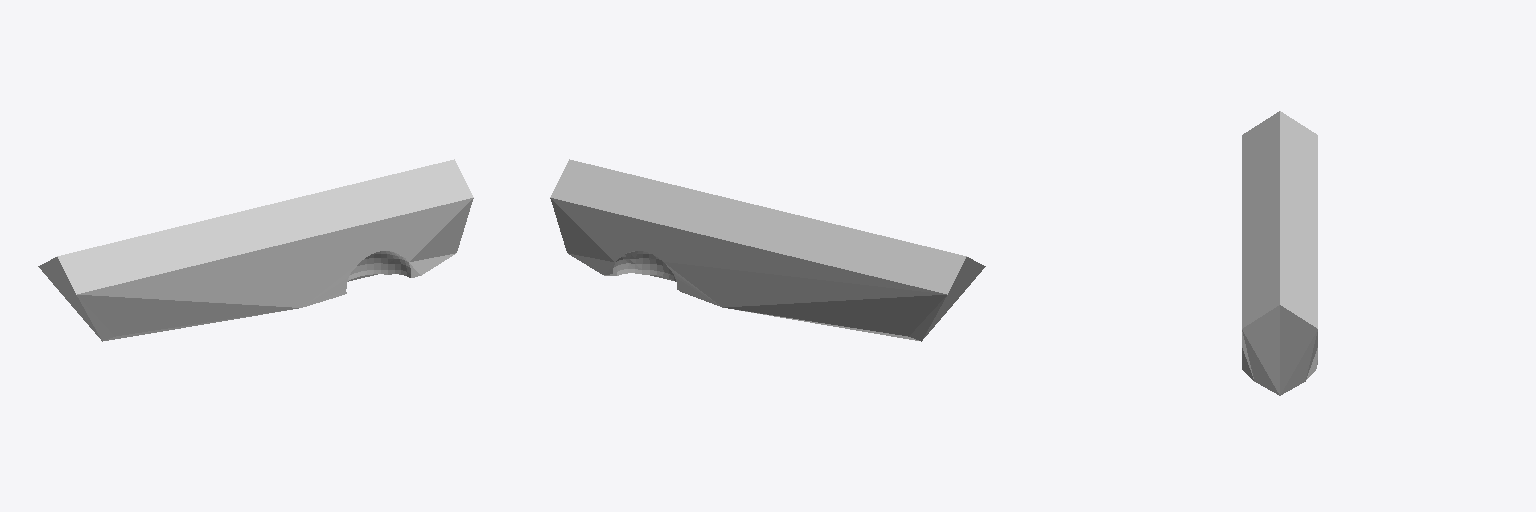
The model's file is head.obj.
The picture shows the model from 3 angles: view 1: azimuth 30°, elevation 25°; view 2: azimuth 150°, elevation 25°; view 3: azimuth 270°, elevation 25°; orthographic projection.
Parts seen in each view (by area): view 1: Cube.003; view 2: Cube.003; view 3: Cube.003.
Part boxes in pixels (left/top/right/bottom): Cube.003: left=38, top=159, right=473, bottom=341; Cube.003: left=550, top=159, right=985, bottom=341; Cube.003: left=1242, top=111, right=1317, bottom=395.
Size of the model in its own units: 1.2 by 0.2785 by 0.2.